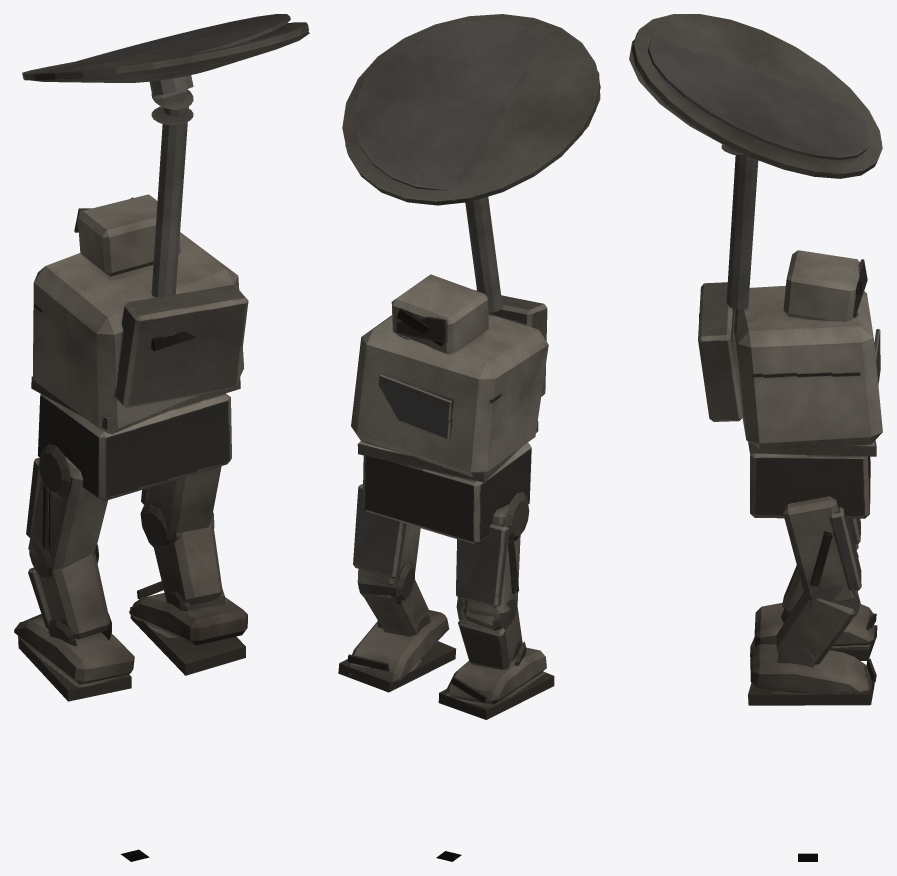
File: ord_sextant_wreck.fbx
3 renders of one model, left to right at view 1: azimuth 30°, elevation 25°; view 2: azimuth 150°, elevation 25°; view 3: azimuth 270°, elevation 25°, orthographic. The views are drawn at different scales.
Visible parts, largest first — view 1: torso_bar, base_bar, radar_bar, thighL_bar, footR_bar, footL_bar, shinL_bar, thighR_bar, shinR_bar; view 2: radar_bar, torso_bar, base_bar, thighL_bar, footR_bar, thighR_bar, footL_bar, shinL_bar, shinR_bar; view 3: torso_bar, radar_bar, base_bar, thighR_bar, footR_bar, shinR_bar, footL_bar, shinL_bar.
Boxes of the visible parts, x1,y1,x2,y2 form: torso_bar: (31, 89, 248, 434); base_bar: (37, 393, 231, 501); radar_bar: (22, 14, 309, 95); thighL_bar: (26, 443, 107, 580); footR_bar: (129, 581, 247, 675); footL_bar: (14, 614, 134, 701); shinL_bar: (28, 553, 111, 646); thighR_bar: (140, 466, 221, 552); shinR_bar: (154, 521, 224, 611); radar_bar: (342, 14, 600, 205); torso_bar: (351, 196, 548, 482); base_bar: (362, 442, 531, 544); thighL_bar: (456, 492, 529, 630); footR_bar: (338, 610, 456, 692); thighR_bar: (353, 484, 420, 603); footL_bar: (438, 647, 554, 719); shinL_bar: (458, 601, 526, 669); shinR_bar: (358, 580, 430, 636); torso_bar: (698, 144, 882, 456); radar_bar: (629, 14, 882, 178); base_bar: (750, 453, 870, 518); thighR_bar: (783, 496, 861, 621); footR_bar: (748, 644, 876, 705); shinR_bar: (776, 592, 855, 667); footL_bar: (750, 603, 877, 660); shinL_bar: (781, 565, 803, 622).
Bounding box in the file's own units: 274 × 897 × 254.
Materials: 2 (2 with a texture image).
